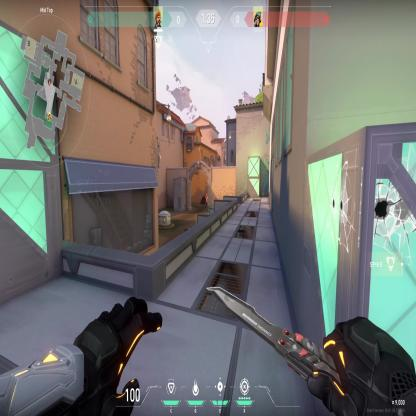enemy: (204, 192, 208, 211)
